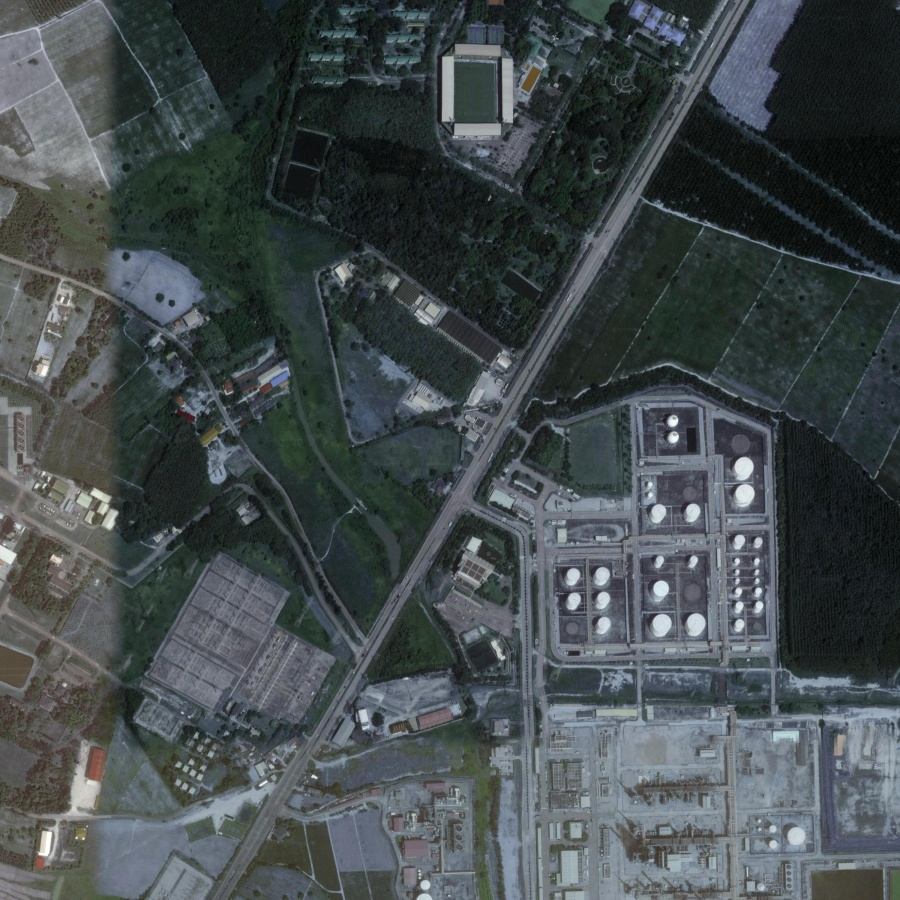PowerPlant: (501, 392, 779, 675)
